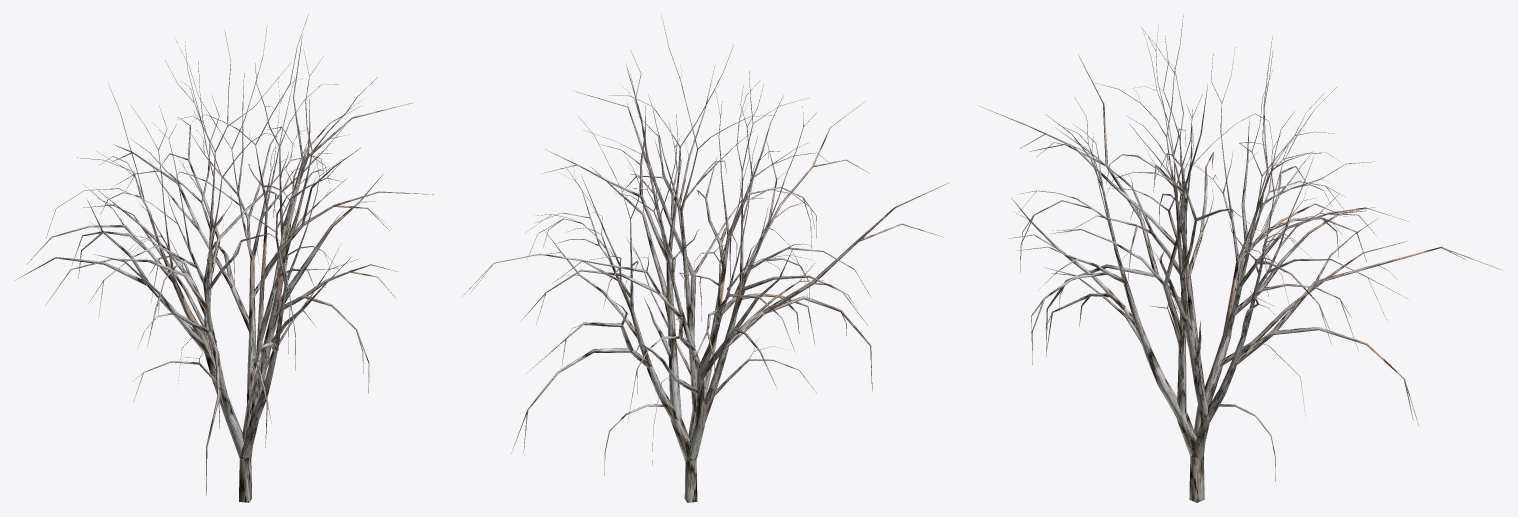
Rendered from Light Wood Tree 1.fbx.
3 renders of one model, left to right at view 1: azimuth 30°, elevation 25°; view 2: azimuth 150°, elevation 25°; view 3: azimuth 270°, elevation 25°, orthographic. The views are drawn at different scales.
Parts seen in each view (by area): view 1: Light Wood Tree 1; view 2: Light Wood Tree 1; view 3: Light Wood Tree 1.
Boxes of the visible parts, x1=… form: Light Wood Tree 1: x1=14, y1=14, x2=433, y2=502; Light Wood Tree 1: x1=462, y1=14, x2=949, y2=502; Light Wood Tree 1: x1=978, y1=14, x2=1502, y2=502.
Bounding box in the file's own units: 545 × 707 × 691.
1 material, 1 textured.
